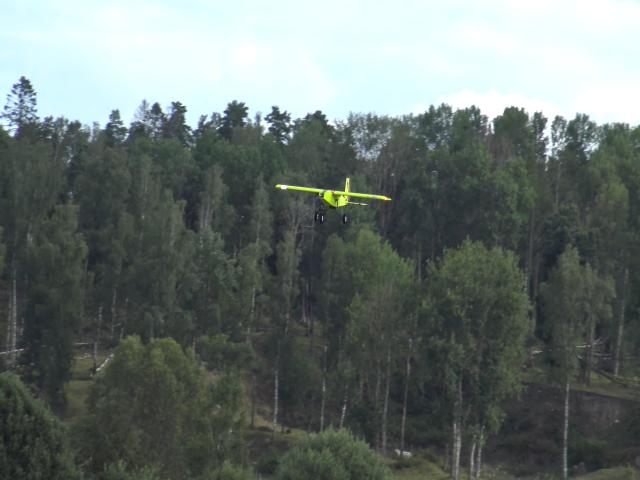plane: (274, 178, 391, 225)
